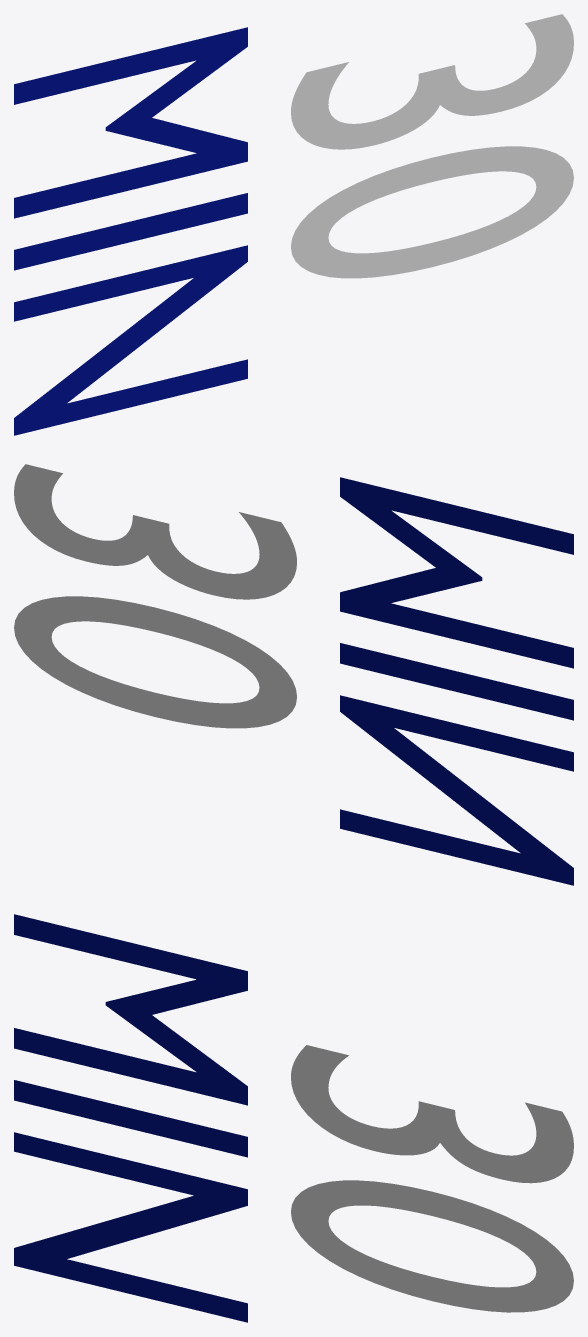
File: 地面标识-限速下限30.gltf
3 views of the same model, one above another, from view 1: azimuth 30°, elevation 25°; view 2: azimuth 150°, elevation 25°; view 3: azimuth 330°, elevation 25° (orthographic).
Parts seen in each view (by area): view 1: 文本.002, 文本; view 2: 文本.002, 文本; view 3: 文本.002, 文本.
Boxes of the visible parts, x1,y1,x2,y2 form: 文本.002: [14, 27, 247, 435]; 文本: [291, 14, 573, 278]; 文本.002: [340, 477, 573, 885]; 文本: [14, 464, 296, 728]; 文本.002: [14, 914, 247, 1322]; 文本: [291, 1045, 573, 1312].
Bounding box in the file's own units: 3.4 × 2.04 × 8.08e-07.
